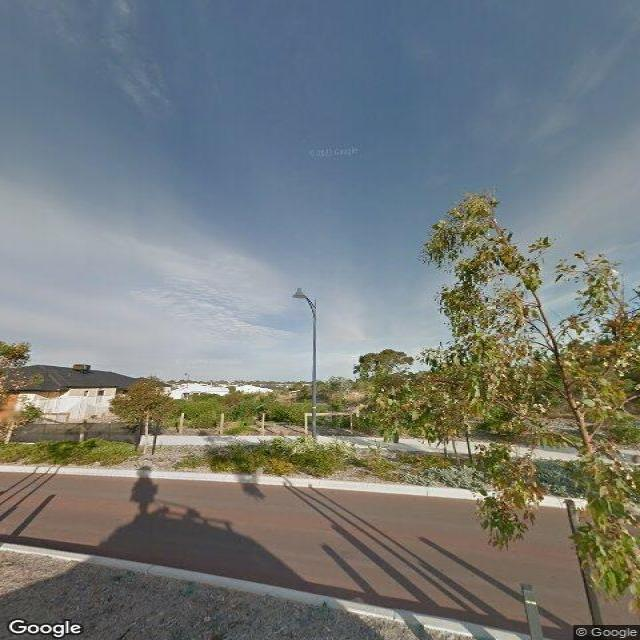steel-pole: (311, 298, 318, 444)
streetlight: (291, 288, 317, 317)
